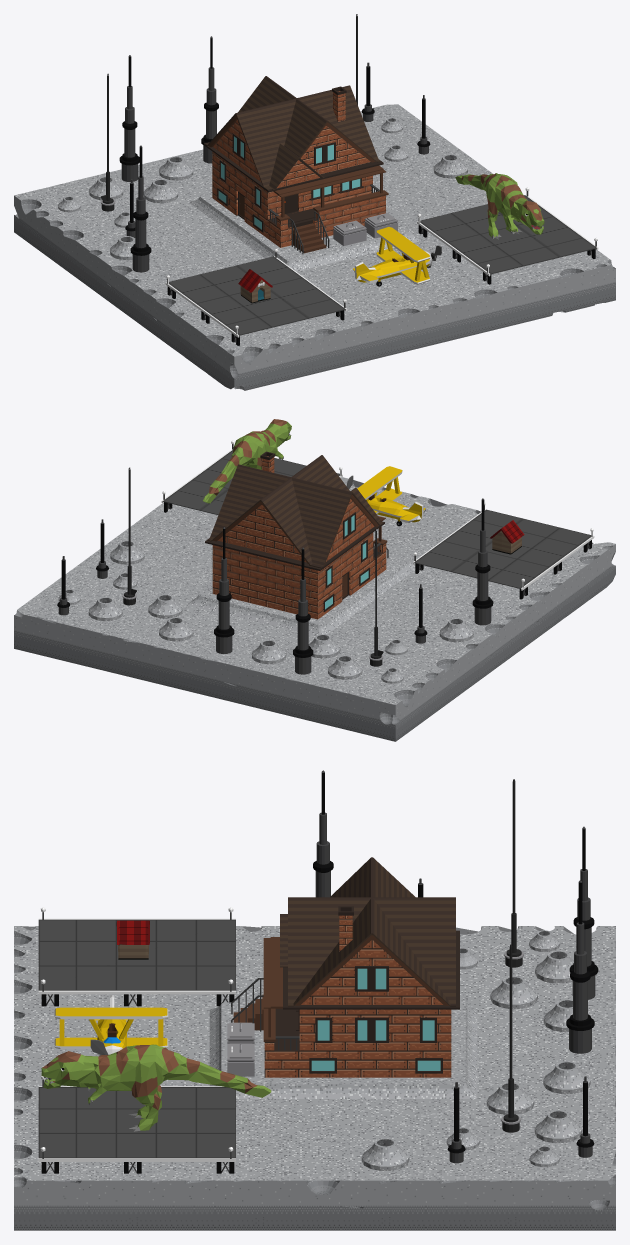
The picture shows the model from 3 angles, top to bottom: view 1: azimuth 30°, elevation 25°; view 2: azimuth 150°, elevation 25°; view 3: azimuth 270°, elevation 25°; orthographic projection. The views are drawn at different scales.
Parts seen in each view (by area): view 1: Cube.027, Cube.469, Cube.025, Cube.026, Cube.028, ANIMAL_TREX, VEHICLES_AIRPLANE, Cylinder.021, Cylinder.020, Cylinder.017, OBJRANDOM_DOGHOUSE, Cube.029 (+5 smaller); view 2: Cube.027, Cube.469, Cube.025, Cube.028, Cube.026, ANIMAL_TREX, VEHICLES_AIRPLANE, Cylinder.021, Cylinder.020, Cylinder.017, OBJRANDOM_DOGHOUSE, Cylinder.030 (+9 smaller); view 3: Cube.027, Cube.469, Cube.025, Cube.026, Cube.028, ANIMAL_TREX, VEHICLES_AIRPLANE, Cylinder.017, Cylinder.020, Cylinder.021, OBJRANDOM_DOGHOUSE, Cylinder.033 (+11 smaller).
Boxes of the visible parts, x1,y1,x2,y2 form: Cube.027: [14, 104, 615, 390]; Cube.469: [203, 76, 388, 254]; Cube.025: [165, 249, 347, 345]; Cube.026: [417, 187, 598, 284]; Cube.028: [190, 193, 420, 271]; ANIMAL_TREX: [455, 173, 544, 239]; VEHICLES_AIRPLANE: [352, 227, 441, 286]; Cylinder.021: [130, 145, 151, 272]; Cylinder.020: [119, 55, 139, 181]; Cylinder.017: [201, 36, 218, 163]; OBJRANDOM_DOGHOUSE: [238, 269, 272, 303]; Cube.029: [333, 220, 366, 245]; Cube.027: [14, 477, 615, 741]; Cube.469: [205, 451, 388, 619]; Cube.025: [413, 502, 594, 599]; Cube.028: [188, 554, 415, 635]; Cube.026: [161, 440, 342, 515]; ANIMAL_TREX: [203, 419, 291, 503]; VEHICLES_AIRPLANE: [346, 466, 425, 526]; Cylinder.021: [472, 498, 493, 625]; Cylinder.020: [293, 547, 313, 674]; Cylinder.017: [214, 527, 234, 653]; OBJRANDOM_DOGHOUSE: [490, 520, 524, 554]; Cylinder.030: [148, 594, 182, 618]; Cube.027: [14, 926, 615, 1230]; Cube.469: [231, 857, 459, 1077]; Cube.025: [38, 907, 235, 1006]; Cube.026: [38, 1075, 235, 1173]; Cube.028: [209, 1002, 477, 1098]; ANIMAL_TREX: [41, 1044, 271, 1131]; VEHICLES_AIRPLANE: [54, 995, 168, 1055]; Cylinder.017: [566, 880, 594, 1053]; Cylinder.020: [569, 826, 598, 999]; Cylinder.021: [313, 770, 333, 897]; OBJRANDOM_DOGHOUSE: [116, 920, 149, 959]; Cylinder.033: [361, 1138, 409, 1170].
Bounding box in the file's own units: 4000 × 1951 × 4000.
Materials: 42 (5 with a texture image).
